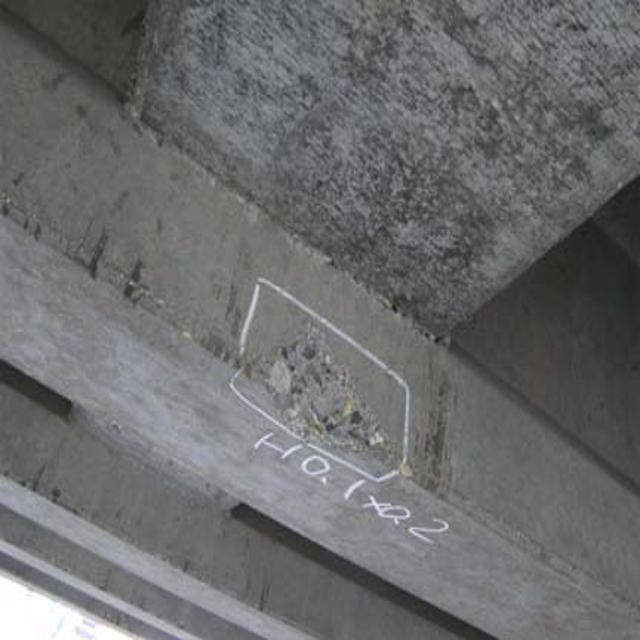spalling: (250, 317, 406, 484)
